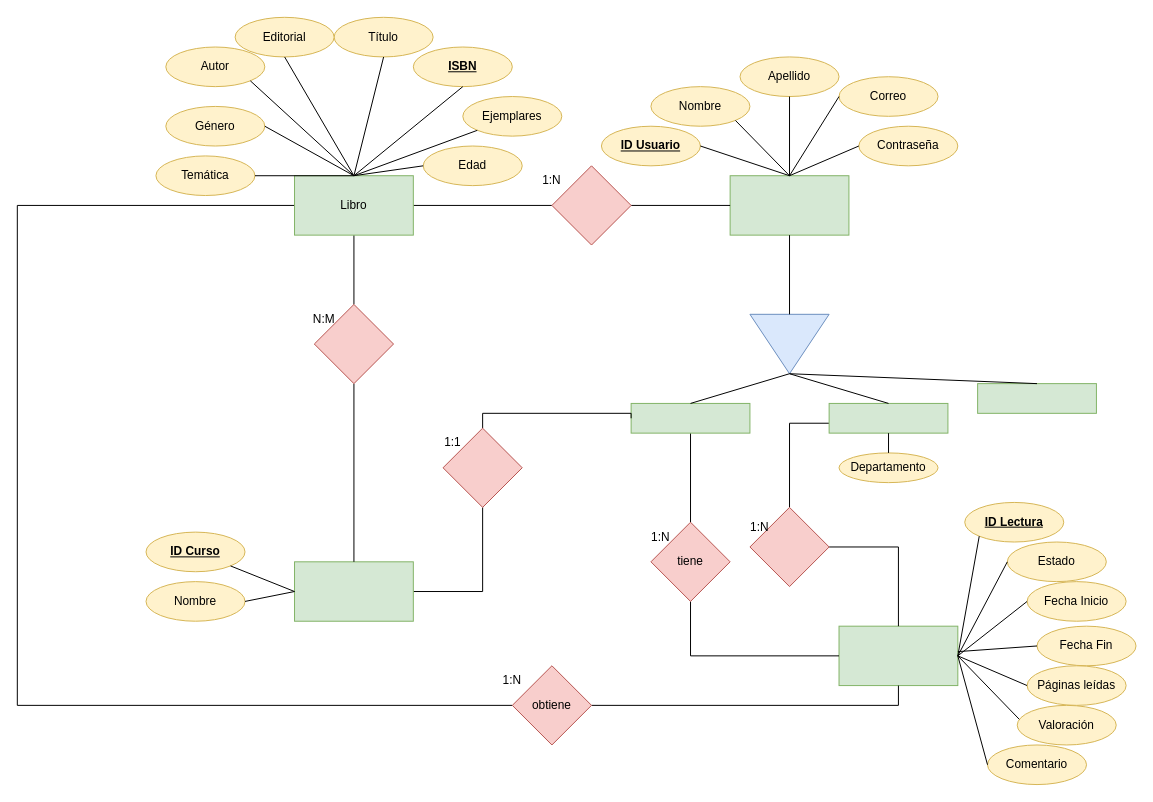
The diagram is 1153 pixels wide and 802 high, and some of its shapes have lost their labels. The shapes that lost their labels are listed below. From the top down, each one's box as (x1, y1, x2, y2) in pixels, then its label:
(551, 165, 631, 245): gestiona
(729, 175, 849, 235): Usuario
(313, 303, 394, 384): pertenece
(630, 402, 750, 433): Alumno
(828, 402, 948, 433): Profesor
(977, 383, 1096, 413): Administrador
(442, 427, 522, 507): asigna
(749, 506, 829, 587): ordena
(294, 561, 413, 621): Curso
(838, 625, 958, 686): Lectura
